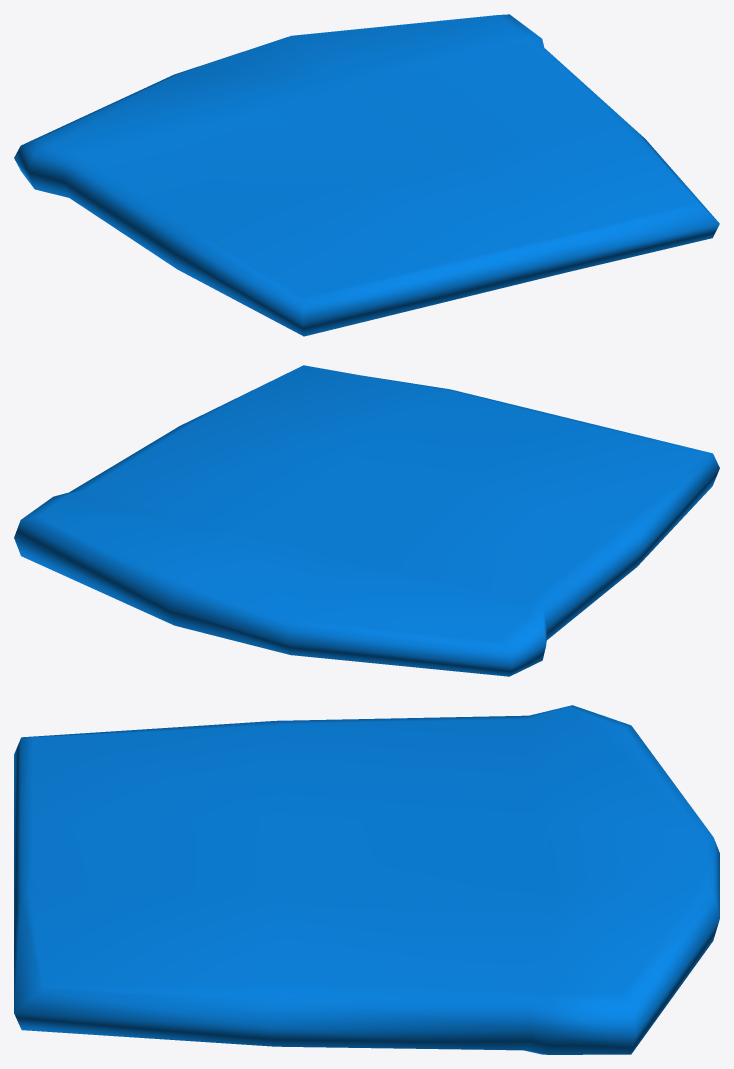
The model's file is Mesh_toast.fbx.
The picture shows the model from 3 angles, top to bottom: view 1: azimuth 30°, elevation 25°; view 2: azimuth 150°, elevation 25°; view 3: azimuth 270°, elevation 25°; orthographic projection. The views are drawn at different scales.
Visible parts, largest first — view 1: toast; view 2: toast; view 3: toast.
Boxes of the visible parts, x1=… form: toast: x1=14, y1=14, x2=719, y2=336; toast: x1=14, y1=365, x2=719, y2=676; toast: x1=14, y1=705, x2=719, y2=1054.
Bounding box in the file's own units: 22.44 × 1.95 × 21.52.
